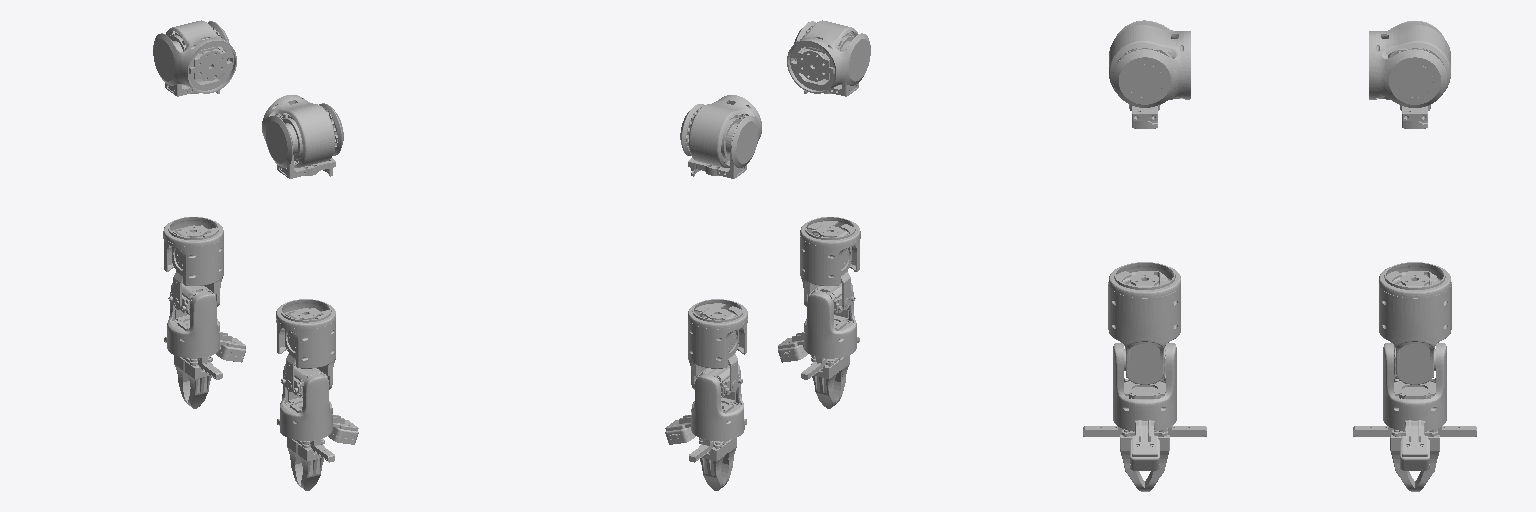
robot.urdf — OpenarmV2_URDF:
<?xml version="1.0" encoding="utf-8"?>
<!-- This URDF was automatically created by SolidWorks to URDF Exporter! Originally created by Stephen Brawner (brawner@gmail.com) 
     Commit Version: 1.6.0-4-g7f85cfe  Build Version: 1.6.7995.38578
     For more information, please see http://wiki.ros.org/sw_urdf_exporter -->
<robot name="OpenarmV2_URDF">
  <mujoco>
    <compiler meshdir="../meshes/" balanceinertia="true" discardvisual="false" inertiafromgeom="false" fusestatic="false" />
  </mujoco>

  <link name="base_link">
    <inertial>
      <origin xyz="0.00060129 9.21e-06 0.39732254" rpy="0 0 0" />
      <mass value="15.18798238" />
      <inertia ixx="1.02044343" ixy="-1.974e-05" ixz="-0.00255062" iyy="1.00211295" iyz="-3.095e-05" izz="0.08556726" />
    </inertial>
    <visual>
      <origin xyz="0 0 0" rpy="0 0 0" />
      <geometry>
        <mesh filename="../meshes/base_link.STL" />
      </geometry>
      <material name="">
        <color rgba="0.752941176470588 0.752941176470588 0.752941176470588 1" />
      </material>
    </visual>
    <collision>
      <origin xyz="0 0 0" rpy="0 0 0" />
      <geometry>
        <mesh filename="../meshes/base_link.STL" />
      </geometry>
    </collision>
  </link>
  <link name="l_joint1_link">
    <inertial>
      <origin xyz="-0.00713265 0.05355698 1.939e-05" rpy="0 0 0" />
      <mass value="1.15988765" />
      <inertia ixx="0.00150382" ixy="3.118e-05" ixz="8e-08" iyy="0.00124283" iyz="-1.71e-06" izz="0.00147654" />
    </inertial>
    <visual>
      <origin xyz="0 0 0" rpy="0 0 0" />
      <geometry>
        <mesh filename="../meshes/l_joint1_link.STL" />
      </geometry>
      <material name="">
        <color rgba="0.752941176470588 0.752941176470588 0.752941176470588 1" />
      </material>
    </visual>
    <collision>
      <origin xyz="0 0 0" rpy="0 0 0" />
      <geometry>
        <mesh filename="../meshes/l_joint1_link.STL" />
      </geometry>
    </collision>
  </link>
  <joint name="l_joint1_link" type="revolute">
    <origin xyz="0 0.126 0.686" rpy="0 0 0" />
    <parent link="base_link" />
    <child link="l_joint1_link" />
    <axis xyz="0 1 0" />
    <limit lower="-3.0543" upper="1.6581" effort="70" velocity="60" />
  </joint>
  <link name="l_joint2_link">
    <inertial>
      <origin xyz="-0.01934445 -1.746e-05 -0.04177167" rpy="0 0 0" />
      <mass value="0.15403929" />
      <inertia ixx="0.00010685" ixy="1.6e-07" ixz="4.47e-05" iyy="0.00017847" iyz="-9e-08" izz="0.000127" />
    </inertial>
    <visual>
      <origin xyz="0 0 0" rpy="0 0 0" />
      <geometry>
        <mesh filename="../meshes/l_joint2_link.STL" />
      </geometry>
      <material name="">
        <color rgba="0.752941176470588 0.752941176470588 0.752941176470588 1" />
      </material>
    </visual>
    <collision>
      <origin xyz="0 0 0" rpy="0 0 0" />
      <geometry>
        <mesh filename="../meshes/l_joint2_link.STL" />
      </geometry>
    </collision>
  </link>
  <joint name="l_joint2_link" type="revolute">
    <origin xyz="0 0.059 0" rpy="0 0 0" />
    <parent link="l_joint1_link" />
    <child link="l_joint2_link" />
    <axis xyz="1 0 0" />
    <limit lower="-0.2793" upper="3.4208" effort="70" velocity="60" />
  </joint>
  <link name="l_joint3_link">
    <inertial>
      <origin xyz="-0.0011344 0.00137953 -0.09430537" rpy="0 0 0" />
      <mass value="1.59344981" />
      <inertia ixx="0.00810275" ixy="-8.8e-07" ixz="9.13e-06" iyy="0.00794439" iyz="0.00012305" izz="0.00150218" />
    </inertial>
    <visual>
      <origin xyz="0 0 0" rpy="0 0 0" />
      <geometry>
        <mesh filename="../meshes/l_joint3_link.STL" />
      </geometry>
      <material name="">
        <color rgba="0.752941176470588 0.752941176470588 0.752941176470588 1" />
      </material>
    </visual>
    <collision>
      <origin xyz="0 0 0" rpy="0 0 0" />
      <geometry>
        <mesh filename="../meshes/l_joint3_link.STL" />
      </geometry>
    </collision>
  </link>
  <joint name="l_joint3_link" type="revolute">
    <origin xyz="0.00075 0 -0.0649" rpy="0 0 0" />
    <parent link="l_joint2_link" />
    <child link="l_joint3_link" />
    <axis xyz="0 0 -1" />
    <limit lower="-1.5708" upper="1.5708" effort="45" velocity="78" />
  </joint>
  <link name="l_joint4_link">
    <inertial>
      <origin xyz="-0.00058823 0.00101446 -0.05934853" rpy="0 0 0" />
      <mass value="0.59748077" />
      <inertia ixx="0.0009158" ixy="-1.72e-06" ixz="3.57e-06" iyy="0.00074947" iyz="-3.983e-05" izz="0.00064751" />
    </inertial>
    <visual>
      <origin xyz="0 0 0" rpy="0 0 0" />
      <geometry>
        <mesh filename="../meshes/l_joint4_link.STL" />
      </geometry>
      <material name="">
        <color rgba="0.752941176470588 0.752941176470588 0.752941176470588 1" />
      </material>
    </visual>
    <collision>
      <origin xyz="0 0 0" rpy="0 0 0" />
      <geometry>
        <mesh filename="../meshes/l_joint4_link.STL" />
      </geometry>
    </collision>
  </link>
  <joint name="l_joint4_link" type="revolute">
    <origin xyz="0 0 -0.1612" rpy="0 0 0" />
    <parent link="l_joint3_link" />
    <child link="l_joint4_link" />
    <axis xyz="0 1 0" />
    <limit lower="-2.2689" upper="1.0472" effort="45" velocity="78" />
  </joint>
  <link name="l_joint5_link">
    <inertial>
      <origin xyz="0.00045865 -0.00053893 -0.04927888" rpy="0 0 0" />
      <mass value="0.62471891" />
      <inertia ixx="0.00059267" ixy="-2.21e-06" ixz="5.158e-05" iyy="0.00053497" iyz="8.11e-06" izz="0.00046642" />
    </inertial>
    <visual>
      <origin xyz="0 0 0" rpy="0 0 0" />
      <geometry>
        <mesh filename="../meshes/l_joint5_link.STL" />
      </geometry>
      <material name="">
        <color rgba="0.752941176470588 0.752941176470588 0.752941176470588 1" />
      </material>
    </visual>
    <collision>
      <origin xyz="0 0 0" rpy="0 0 0" />
      <geometry>
        <mesh filename="../meshes/l_joint5_link.STL" />
      </geometry>
    </collision>
  </link>
  <joint name="l_joint5_link" type="revolute">
    <origin xyz="0 0 -0.091909" rpy="0 0 0" />
    <parent link="l_joint4_link" />
    <child link="l_joint5_link" />
    <axis xyz="0 0 -1" />
    <limit lower="-1.3614" upper="1.3614" effort="21" velocity="75" />
  </joint>
  <link name="l_joint6_link">
    <inertial>
      <origin xyz="-0.000481 0.00218642 -0.00011482" rpy="0 0 0" />
      <mass value="0.29227646" />
      <inertia ixx="0.00011826" ixy="-2.3e-07" ixz="4.6e-07" iyy="0.00011798" iyz="-1.6e-07" izz="0.00014266" />
    </inertial>
    <visual>
      <origin xyz="0 0 0" rpy="0 0 0" />
      <geometry>
        <mesh filename="../meshes/l_joint6_link.STL" />
      </geometry>
      <material name="">
        <color rgba="0.752941176470588 0.752941176470588 0.752941176470588 1" />
      </material>
    </visual>
    <collision>
      <origin xyz="0 0 0" rpy="0 0 0" />
      <geometry>
        <mesh filename="../meshes/l_joint6_link.STL" />
      </geometry>
    </collision>
  </link>
  <joint name="l_joint6_link" type="revolute">
    <origin xyz="0 0 -0.1276" rpy="0 0 0" />
    <parent link="l_joint5_link" />
    <child link="l_joint6_link" />
    <axis xyz="1 0 0" />
    <limit lower="-0.7854" upper="0.7854" effort="21" velocity="75" />
  </joint>
  <link name="l_joint7_link">
    <inertial>
      <origin xyz="0.00660975 0.00022779 -0.08281294" rpy="0 0 0" />
      <mass value="0.73505653" />
      <inertia ixx="0.00147378" ixy="1.7e-07" ixz="0.00011746" iyy="0.00150339" iyz="-1.744e-05" izz="0.00086931" />
    </inertial>
    <visual>
      <origin xyz="0 0 0" rpy="0 0 0" />
      <geometry>
        <mesh filename="../meshes/l_joint7_link.STL" />
      </geometry>
      <material name="">
        <color rgba="0.752941176470588 0.752941176470588 0.752941176470588 1" />
      </material>
    </visual>
    <collision>
      <origin xyz="0 0 0" rpy="0 0 0" />
      <geometry>
        <mesh filename="../meshes/l_joint7_link.STL" />
      </geometry>
    </collision>
  </link>
  <joint name="l_joint7_link" type="revolute">
    <origin xyz="0 0 0" rpy="0 0 0" />
    <parent link="l_joint6_link" />
    <child link="l_joint7_link" />
    <axis xyz="0 1 0" />
    <limit lower="-1.5708" upper="1.5708" effort="10" velocity="160" />
  </joint>
  <link name="r_joint1_link">
    <inertial>
      <origin xyz="-0.00712748 -0.05359327 5.879e-05" rpy="0 0 0" />
      <mass value="1.15988758" />
      <inertia ixx="0.00150427" ixy="-3.262e-05" ixz="-4e-08" iyy="0.00124292" iyz="-1.22e-06" izz="0.00147709" />
    </inertial>
    <visual>
      <origin xyz="0 0 0" rpy="0 0 0" />
      <geometry>
        <mesh filename="../meshes/r_joint1_link.STL" />
      </geometry>
      <material name="">
        <color rgba="0.752941176470588 0.752941176470588 0.752941176470588 1" />
      </material>
    </visual>
    <collision>
      <origin xyz="0 0 0" rpy="0 0 0" />
      <geometry>
        <mesh filename="../meshes/r_joint1_link.STL" />
      </geometry>
    </collision>
  </link>
  <joint name="r_joint1_link" type="revolute">
    <origin xyz="0 -0.126 0.686" rpy="0 0 0" />
    <parent link="base_link" />
    <child link="r_joint1_link" />
    <axis xyz="0 -1 0" />
    <limit lower="-1.6581" upper="3.0543" effort="70" velocity="60" />
  </joint>
  <link name="r_joint2_link">
    <inertial>
      <origin xyz="-0.01934445 -1.746e-05 -0.04177167" rpy="0 0 0" />
      <mass value="0.15403929" />
      <inertia ixx="0.00010685" ixy="1.6e-07" ixz="4.47e-05" iyy="0.00017847" iyz="-9e-08" izz="0.000127" />
    </inertial>
    <visual>
      <origin xyz="0 0 0" rpy="0 0 0" />
      <geometry>
        <mesh filename="../meshes/r_joint2_link.STL" />
      </geometry>
      <material name="">
        <color rgba="0.752941176470588 0.752941176470588 0.752941176470588 1" />
      </material>
    </visual>
    <collision>
      <origin xyz="0 0 0" rpy="0 0 0" />
      <geometry>
        <mesh filename="../meshes/r_joint2_link.STL" />
      </geometry>
    </collision>
  </link>
  <joint name="r_joint2_link" type="revolute">
    <origin xyz="0 -0.059 0" rpy="0 0 0" />
    <parent link="r_joint1_link" />
    <child link="r_joint2_link" />
    <axis xyz="1 0 0" />
    <limit lower="-3.4208" upper="0.2793" effort="70" velocity="60" />
  </joint>
  <link name="r_joint3_link">
    <inertial>
      <origin xyz="-0.00137174 -0.00129307 -0.09414612" rpy="0 0 0" />
      <mass value="1.59638975" />
      <inertia ixx="0.00812526" ixy="4.31e-06" ixz="1.272e-05" iyy="0.00796923" iyz="-0.00013399" izz="0.00150557" />
    </inertial>
    <visual>
      <origin xyz="0 0 0" rpy="0 0 0" />
      <geometry>
        <mesh filename="../meshes/r_joint3_link.STL" />
      </geometry>
      <material name="">
        <color rgba="0.752941176470588 0.752941176470588 0.752941176470588 1" />
      </material>
    </visual>
    <collision>
      <origin xyz="0 0 0" rpy="0 0 0" />
      <geometry>
        <mesh filename="../meshes/r_joint3_link.STL" />
      </geometry>
    </collision>
  </link>
  <joint name="r_joint3_link" type="revolute">
    <origin xyz="0.00075 0 -0.0649" rpy="0 0 0" />
    <parent link="r_joint2_link" />
    <child link="r_joint3_link" />
    <axis xyz="0 0 -1" />
    <limit lower="-1.5708" upper="1.5708" effort="45" velocity="78" />
  </joint>
  <link name="r_joint4_link">
    <inertial>
      <origin xyz="-0.00058719 -0.00120022 -0.05934864" rpy="0 0 0" />
      <mass value="0.59703506" />
      <inertia ixx="0.00091485" ixy="-9.1e-07" ixz="3.57e-06" iyy="0.00074945" iyz="3.902e-05" izz="0.00064654" />
    </inertial>
    <visual>
      <origin xyz="0 0 0" rpy="0 0 0" />
      <geometry>
        <mesh filename="../meshes/r_joint4_link.STL" />
      </geometry>
      <material name="">
        <color rgba="0.752941176470588 0.752941176470588 0.752941176470588 1" />
      </material>
    </visual>
    <collision>
      <origin xyz="0 0 0" rpy="0 0 0" />
      <geometry>
        <mesh filename="../meshes/r_joint4_link.STL" />
      </geometry>
    </collision>
  </link>
  <joint name="r_joint4_link" type="revolute">
    <origin xyz="0 0 -0.1612" rpy="0 0 0" />
    <parent link="r_joint3_link" />
    <child link="r_joint4_link" />
    <axis xyz="0 -1 0" />
    <limit lower="-1.0472" upper="2.2689" effort="45" velocity="78" />
  </joint>
  <link name="r_joint5_link">
    <inertial>
      <origin xyz="0.00045865 -0.00053893 -0.04927888" rpy="0 0 0" />
      <mass value="0.62471891" />
      <inertia ixx="0.00059267" ixy="-2.21e-06" ixz="5.158e-05" iyy="0.00053497" iyz="8.11e-06" izz="0.00046642" />
    </inertial>
    <visual>
      <origin xyz="0 0 0" rpy="0 0 0" />
      <geometry>
        <mesh filename="../meshes/r_joint5_link.STL" />
      </geometry>
      <material name="">
        <color rgba="0.752941176470588 0.752941176470588 0.752941176470588 1" />
      </material>
    </visual>
    <collision>
      <origin xyz="0 0 0" rpy="0 0 0" />
      <geometry>
        <mesh filename="../meshes/r_joint5_link.STL" />
      </geometry>
    </collision>
  </link>
  <joint name="r_joint5_link" type="revolute">
    <origin xyz="0 0 -0.091909" rpy="0 0 0" />
    <parent link="r_joint4_link" />
    <child link="r_joint5_link" />
    <axis xyz="0 0 -1" />
    <limit lower="-1.3614" upper="1.3614" effort="21" velocity="75" />
  </joint>
  <link name="r_joint6_link">
    <inertial>
      <origin xyz="-0.00032655 -0.00218642 -0.00011756" rpy="0 0 0" />
      <mass value="0.29227646" />
      <inertia ixx="0.00011826" ixy="2.8e-07" ixz="-5.6e-07" iyy="0.00011801" iyz="1.4e-07" izz="0.0001427" />
    </inertial>
    <visual>
      <origin xyz="0 0 0" rpy="0 0 0" />
      <geometry>
        <mesh filename="../meshes/r_joint6_link.STL" />
      </geometry>
      <material name="">
        <color rgba="0.752941176470588 0.752941176470588 0.752941176470588 1" />
      </material>
    </visual>
    <collision>
      <origin xyz="0 0 0" rpy="0 0 0" />
      <geometry>
        <mesh filename="../meshes/r_joint6_link.STL" />
      </geometry>
    </collision>
  </link>
  <joint name="r_joint6_link" type="revolute">
    <origin xyz="0 0 -0.1276" rpy="0 0 0" />
    <parent link="r_joint5_link" />
    <child link="r_joint6_link" />
    <axis xyz="1 0 0" />
    <limit lower="-0.7854" upper="0.7854" effort="21" velocity="75" />
  </joint>
  <link name="r_joint7_link">
    <inertial>
      <origin xyz="0.0066826 -0.00029155 -0.08289111" rpy="0 0 0" />
      <mass value="0.73400981" />
      <inertia ixx="0.00146936" ixy="-2.37e-06" ixz="0.00011653" iyy="0.00149948" iyz="1.924e-05" izz="0.00086732" />
    </inertial>
    <visual>
      <origin xyz="0 0 0" rpy="0 0 0" />
      <geometry>
        <mesh filename="../meshes/r_joint7_link.STL" />
      </geometry>
      <material name="">
        <color rgba="0.752941176470588 0.752941176470588 0.752941176470588 1" />
      </material>
    </visual>
    <collision>
      <origin xyz="0 0 0" rpy="0 0 0" />
      <geometry>
        <mesh filename="../meshes/r_joint7_link.STL" />
      </geometry>
    </collision>
  </link>
  <joint name="r_joint7_link" type="revolute">
    <origin xyz="0 0 0" rpy="0 0 0" />
    <parent link="r_joint6_link" />
    <child link="r_joint7_link" />
    <axis xyz="0 -1 0" />
    <limit lower="-1.5708" upper="1.5708" effort="10" velocity="160" />
  </joint>
</robot>

--- Render facts (derived) ---
3 views of the same robot in one strip: view 1: azimuth 30°, elevation 25°; view 2: azimuth 150°, elevation 25°; view 3: azimuth 270°, elevation 25° (orthographic).
Robot: OpenarmV2_URDF — 15 links, 14 joints (14 revolute); root link base_link; default pose: all joints at 0.
Visible links, largest first — view 1: l_joint7_link, r_joint7_link, l_joint1_link, r_joint1_link, l_joint5_link, r_joint5_link, r_joint2_link; view 2: r_joint7_link, l_joint7_link, r_joint1_link, l_joint1_link, r_joint5_link, l_joint5_link, l_joint2_link; view 3: l_joint7_link, r_joint7_link, r_joint5_link, l_joint5_link, l_joint1_link, r_joint1_link, r_joint2_link, l_joint2_link.
Link boxes in pixels (x1,y1,x2,y2): l_joint7_link: (164, 283, 245, 408); r_joint7_link: (277, 364, 358, 490); l_joint1_link: (153, 20, 236, 93); r_joint1_link: (262, 95, 343, 167); l_joint5_link: (163, 217, 223, 309); r_joint5_link: (276, 299, 335, 391); r_joint2_link: (277, 124, 335, 178); r_joint7_link: (778, 283, 859, 408); l_joint7_link: (665, 364, 746, 490); r_joint1_link: (787, 20, 870, 93); l_joint1_link: (680, 95, 761, 167); r_joint5_link: (800, 217, 860, 309); l_joint5_link: (688, 299, 747, 391); l_joint2_link: (688, 124, 746, 178); l_joint7_link: (1353, 343, 1476, 491); r_joint7_link: (1083, 343, 1206, 491); r_joint5_link: (1108, 262, 1180, 384); l_joint5_link: (1379, 262, 1451, 384); l_joint1_link: (1369, 21, 1450, 107); r_joint1_link: (1109, 20, 1190, 107); r_joint2_link: (1129, 104, 1159, 128); l_joint2_link: (1400, 105, 1430, 128).
Bounding box of the posed robot: 0.1467 × 0.539 × 0.6926 m (x, y, z).
Meshes: 15 distinct files referenced, 10 mesh visuals loaded (10 binary STL); not drawn: 5 (reference not matched to a file when rendering).
